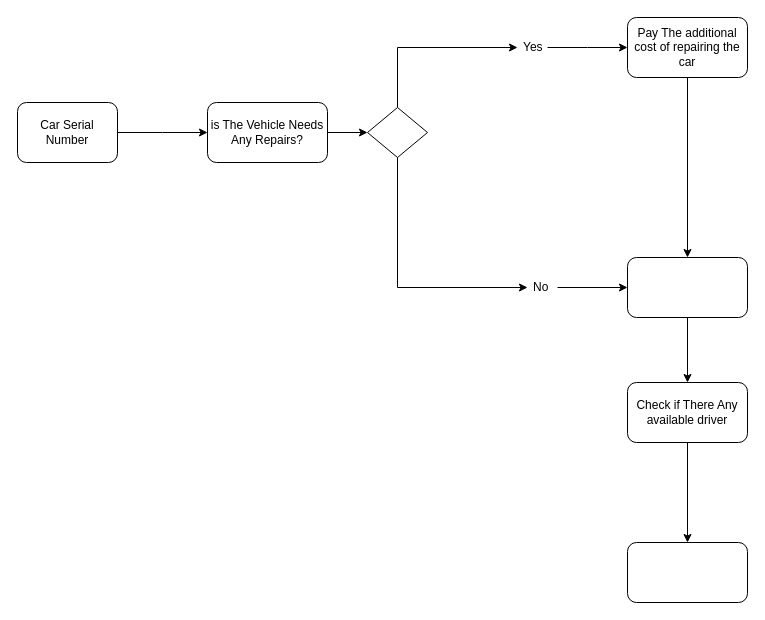
Some shapes in this 765 by 620 pixel diagram are drawn without their labels. Here are the shapes that lost their labels. From the top down, the box of each, then its label:
(626, 256, 748, 318): Book A Safty Vehicle Checking
(626, 542, 748, 602): Order Created
